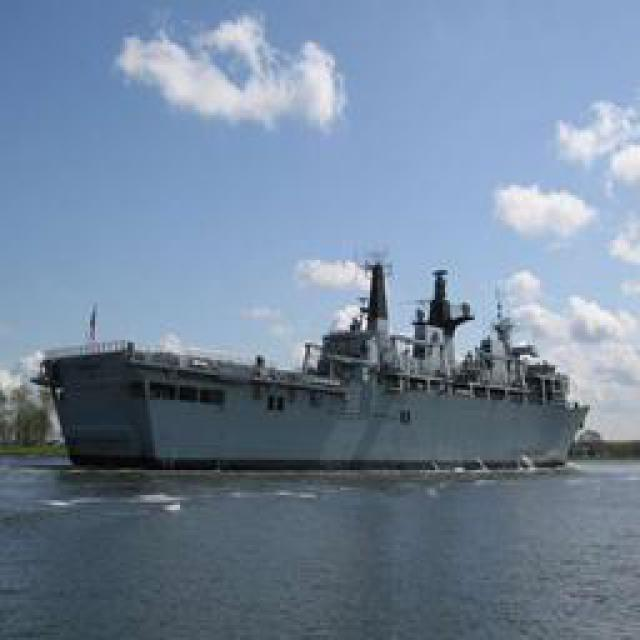Ship: (46, 252, 589, 472)
